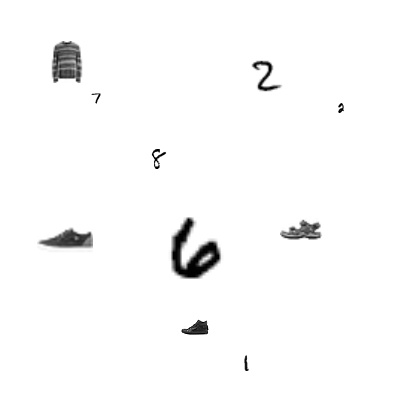1: (235, 353, 257, 375)
2: (243, 55, 285, 97), (334, 101, 348, 115)
6: (151, 212, 235, 296)
7: (90, 90, 104, 104)
8: (143, 143, 171, 171)
Pullover: (46, 41, 88, 83)
Sandal: (280, 208, 322, 250)
Sneaker: (37, 212, 93, 268), (181, 313, 209, 341)
